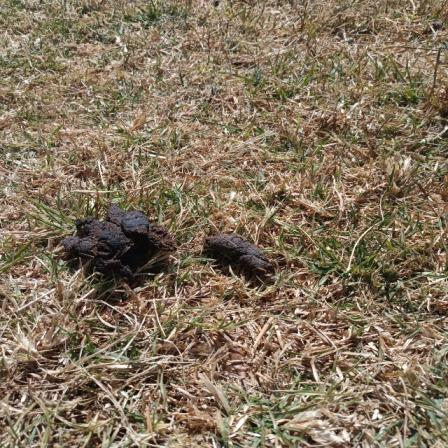dog-poop: (65, 196, 169, 283), (198, 222, 282, 276)
